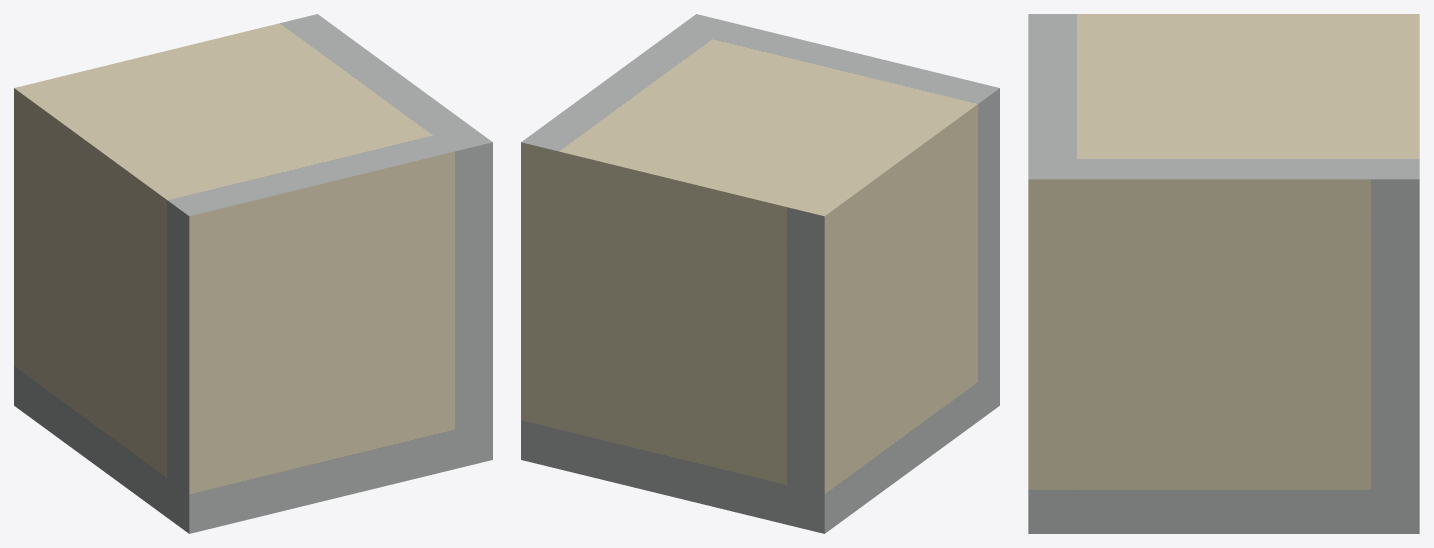
The model's file is World.gltf.
The picture shows the model from 3 angles, left to right: view 1: azimuth 30°, elevation 25°; view 2: azimuth 150°, elevation 25°; view 3: azimuth 270°, elevation 25°; orthographic projection. The views are drawn at different scales.
Visible parts, largest first — view 1: Padrao; view 2: Padrao; view 3: Padrao.
Part boxes in pixels (x1=…): Padrao: x1=14, y1=14, x2=492, y2=533; Padrao: x1=521, y1=14, x2=999, y2=533; Padrao: x1=1028, y1=14, x2=1419, y2=533.
Size of the model in its own units: 1 by 1 by 1.
Materials: 3 (3 with a texture image).
